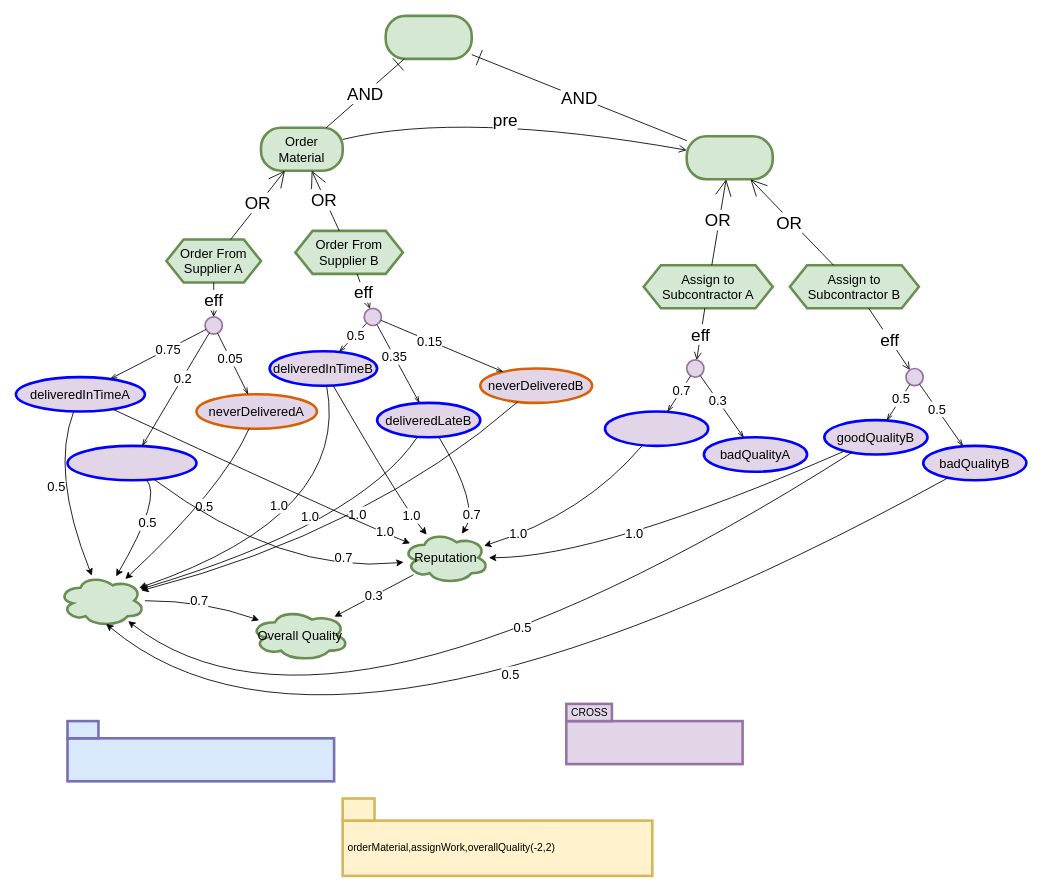
Image size: 1042x892. Some labels were removed from this diagram. Each missing label, with the centre of its shape:
Assign Work: the point at 729,157
Build Roof: the point at 428,37
Cost: the point at 101,600
cost, reputation: the point at 654,742
cost:=-5, reputation:=-2, overallQuality:=-4.1: the point at 200,759
deliveredLateA: the point at 131,462
EXP: the point at 358,809
goodQualityA: the point at 656,428
INIT: the point at 82,729
